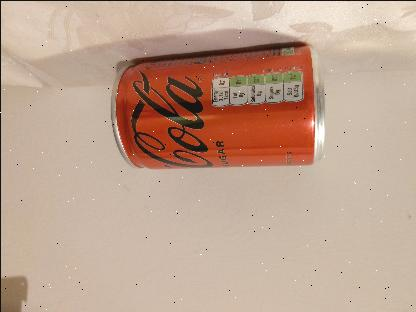Can: (110, 44, 324, 170)
